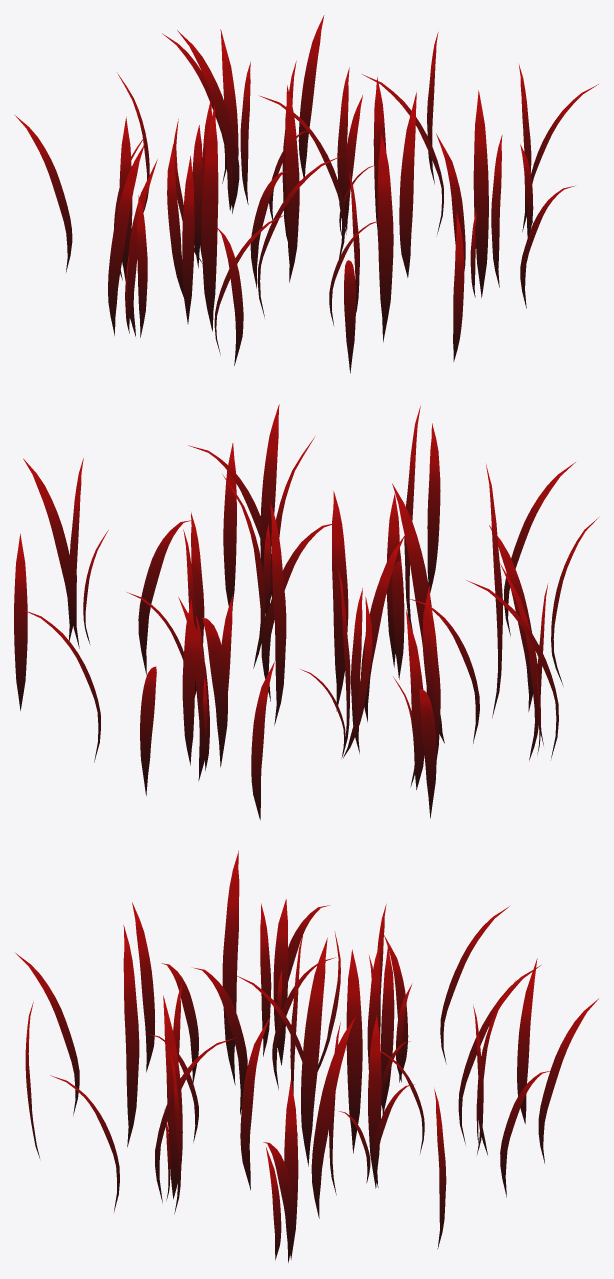
The picture shows the model from 3 angles, top to bottom: view 1: azimuth 30°, elevation 25°; view 2: azimuth 150°, elevation 25°; view 3: azimuth 270°, elevation 25°; orthographic projection. The views are drawn at different scales.
Parts seen in each view (by area): view 1: Grass; view 2: Grass; view 3: Grass.
Boxes of the visible parts, <box> form: Grass: <box>15,15,598,373</box>; Grass: <box>14,404,598,820</box>; Grass: <box>15,850,598,1262</box>.
Bounding box in the file's own units: 409 × 190 × 410.
